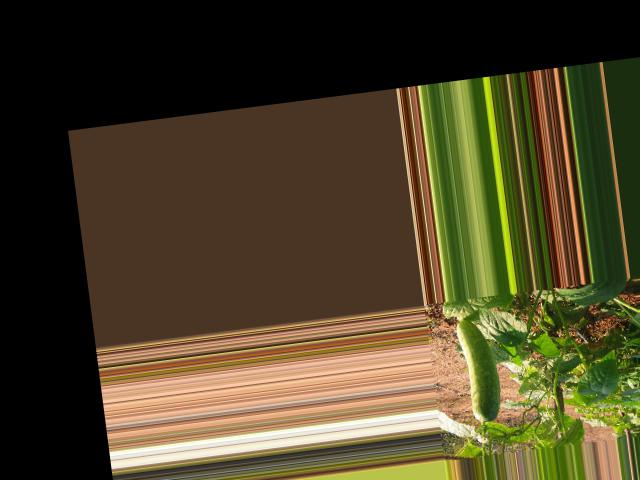cucumber: (454, 316, 503, 423)
